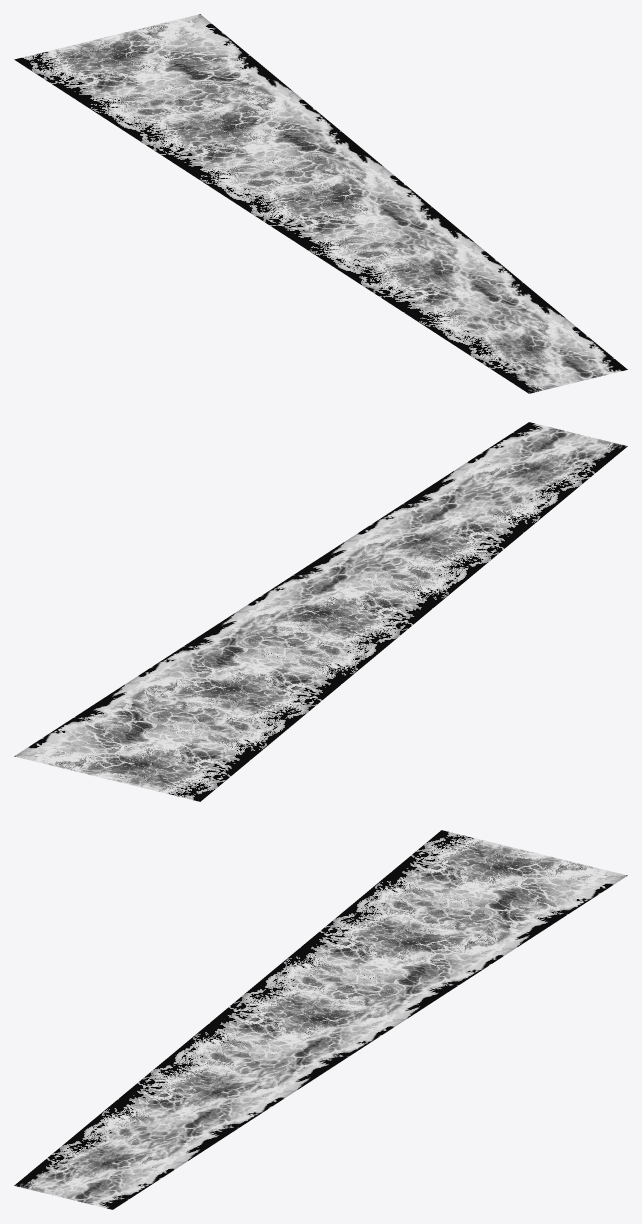
File: chuanweitexiao_001.FBX
The picture shows the model from 3 angles, top to bottom: view 1: azimuth 30°, elevation 25°; view 2: azimuth 150°, elevation 25°; view 3: azimuth 330°, elevation 25°; orthographic projection.
Parts seen in each view (by area): view 1: chuanweitexiao_001; view 2: chuanweitexiao_001; view 3: chuanweitexiao_001.
Boxes of the visible parts, <box> form: chuanweitexiao_001: <box>14,14,627,393</box>; chuanweitexiao_001: <box>14,422,627,801</box>; chuanweitexiao_001: <box>14,830,627,1209</box>.
Bounding box in the file's own units: 448 × 1.2e-13 × 1962.
